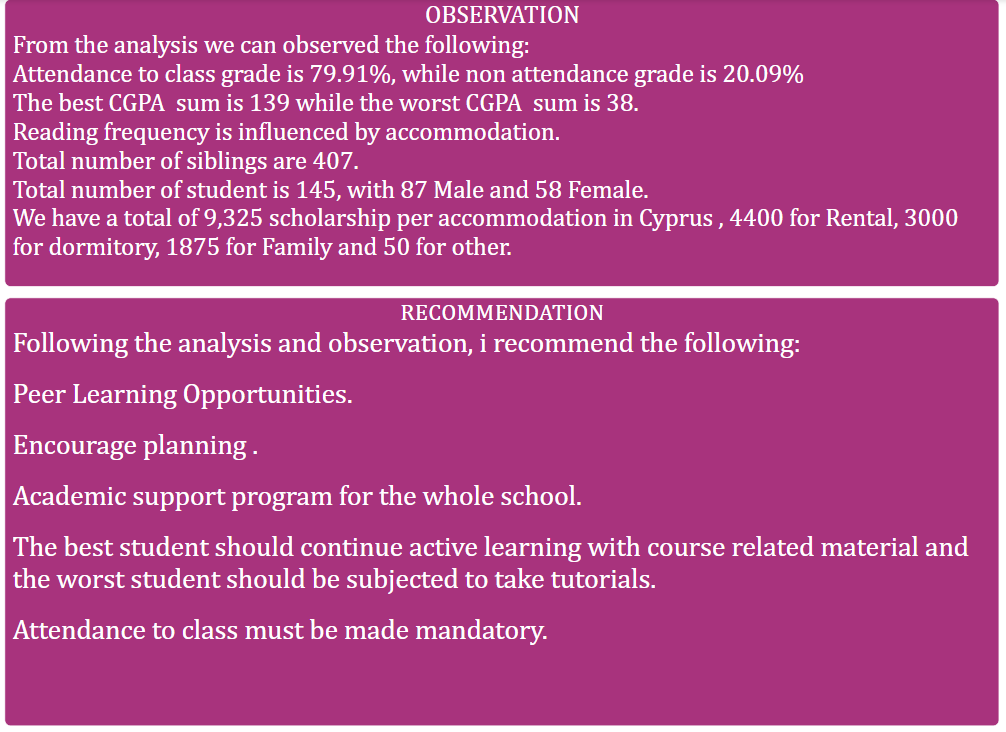

The page's visual inventory and layout, read from the dashboard file:
{"tool":"powerbi","page":{"name":"Page 2","canvas":[1280,720],"ordinal":1},"visuals":[{"type":"textbox","title":"OBSERVATION","box":[10.2,0,965,279.5],"z":0},{"type":"textbox","title":"RECOMMENDATION","box":[10.2,289.7,965,416.3],"z":1000}]}

Visuals, with their boxes on the page's 1280x720 design canvas (x1, y1, x2, y2). These are canvas units, not pixel positions in the 1006x732 screenshot, which may show the page scaled, cropped or inside an application window:
"OBSERVATION" textbox: (left=10, top=0, right=975, bottom=280)
"RECOMMENDATION" textbox: (left=10, top=290, right=975, bottom=706)
